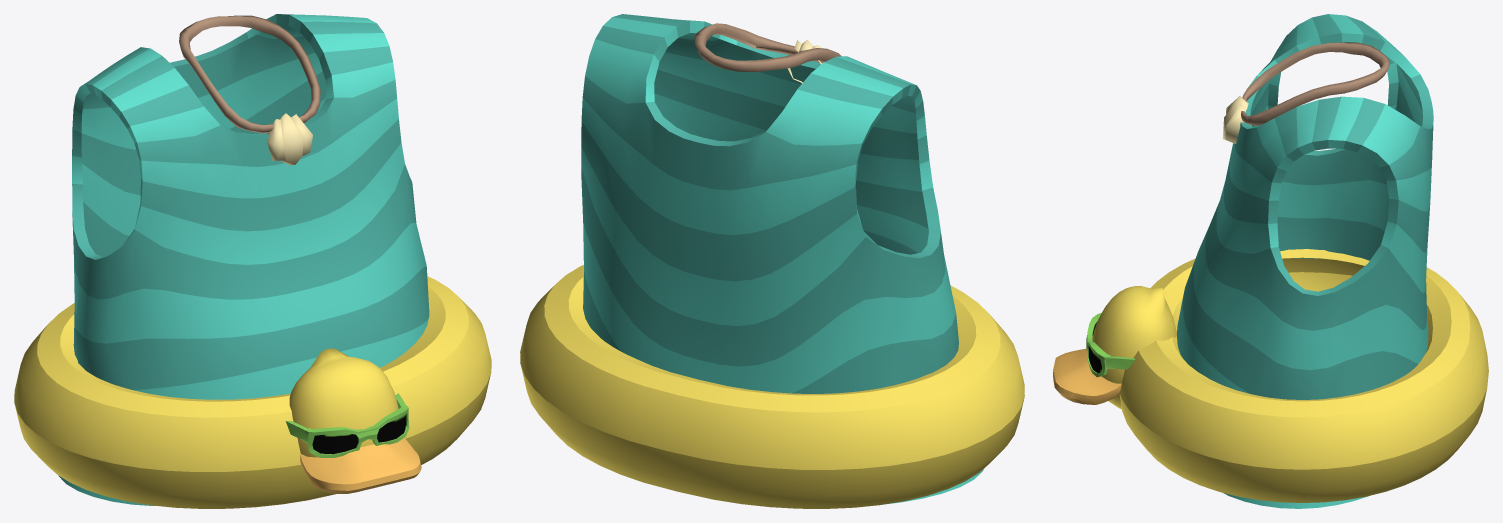
Rendered from 13夏日衬衫.fbx.
3 views of the same model, side by side, from view 1: azimuth 30°, elevation 25°; view 2: azimuth 150°, elevation 25°; view 3: azimuth 270°, elevation 25° (orthographic). The views are drawn at different scales.
Visible parts, largest first — view 1: 13夏日衬衫; view 2: 13夏日衬衫; view 3: 13夏日衬衫.
Part boxes in pixels (x1,y1,x2,y2): 13夏日衬衫: (14, 14, 491, 508); 13夏日衬衫: (520, 14, 1024, 508); 13夏日衬衫: (1053, 14, 1488, 508).
Bounding box in the file's own units: 0.7047 × 0.6078 × 0.6568.
